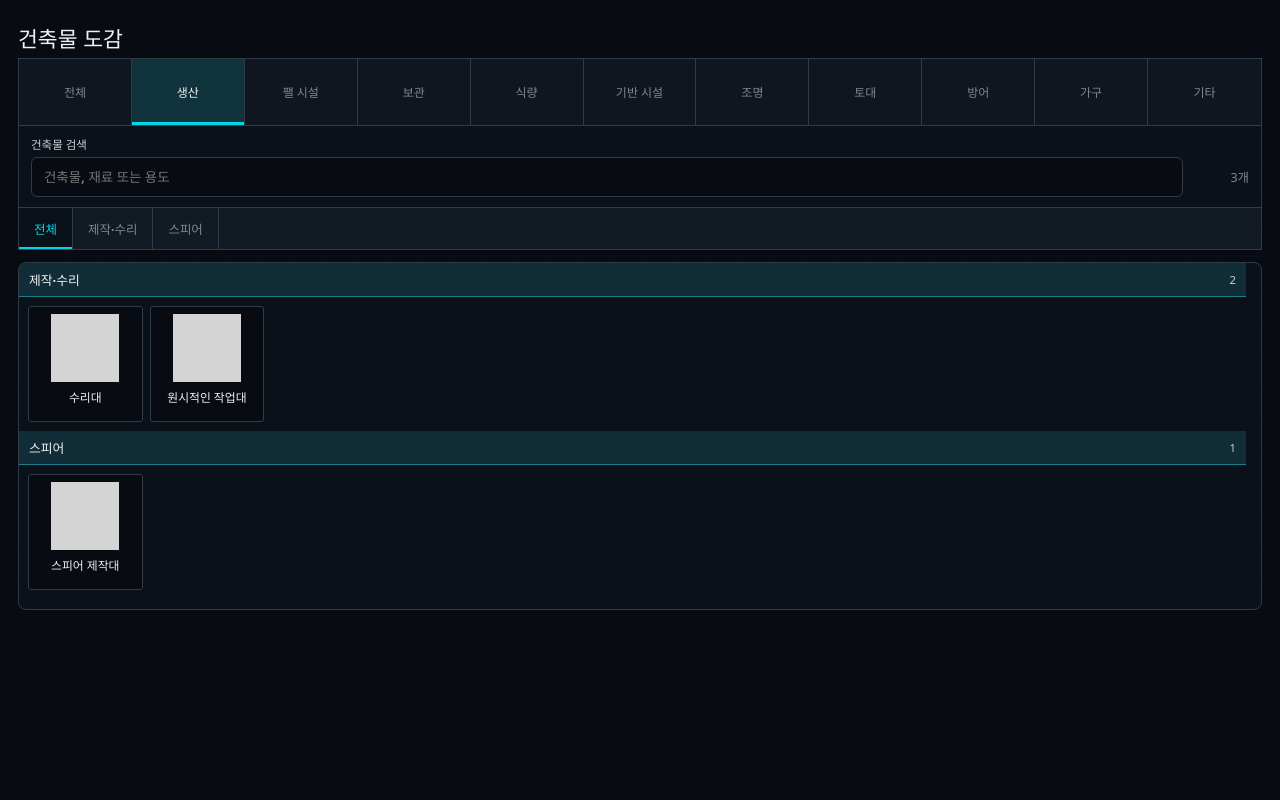
Scenario: BuildingCatalogBoard › searches materials and opens only useful exact-building details
The width and height of the screenshot is (1280, 800).
Type "스피어 제작대" into the search field labelled "건축물 검색".
click(607, 177); type("스피어 제작대")  # box [31,157,1183,197]
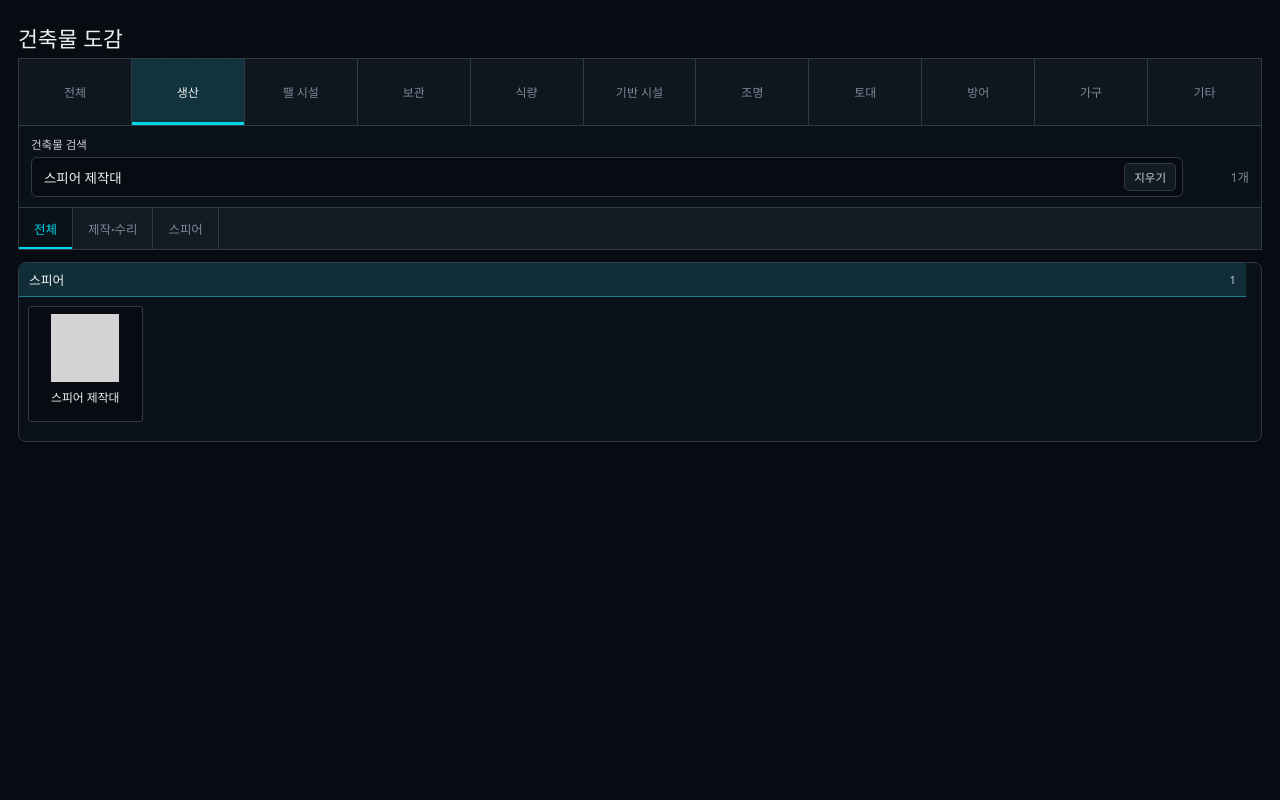
Click the button with aria-label "스피어 제작대, 생산, 스피어, 전력 필요".
click(85, 364)  # box [28,306,143,422]
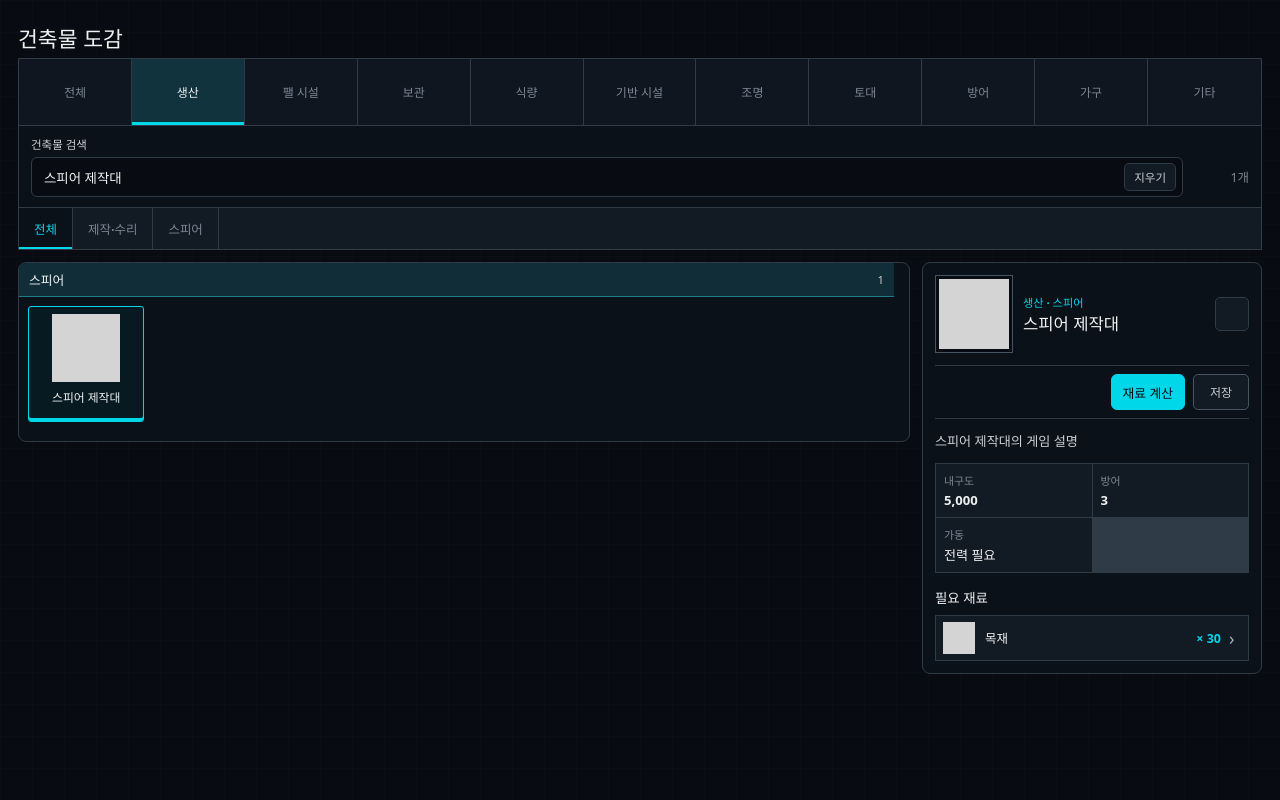
Now the heading "스피어 제작대" is shown, box [1023,312,1119,335]
Now the text "전력 필요" is shown, box [944,546,996,564]
Now the heading "필요 재료" is shown, box [935,589,988,607]
